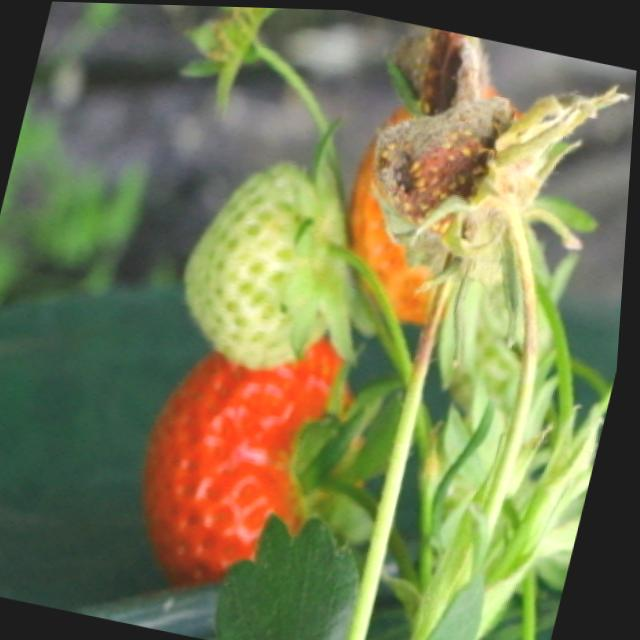Gray Mold: (375, 23, 632, 346)
